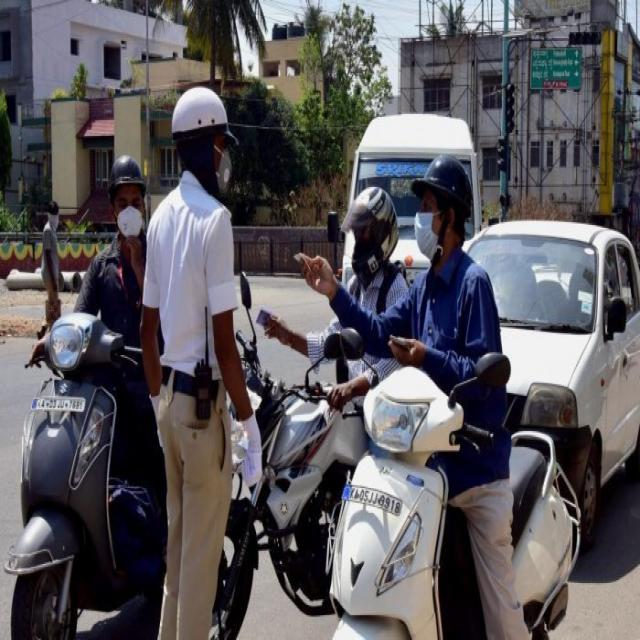Usage Of Phone While Riding: (372, 104, 508, 497)
